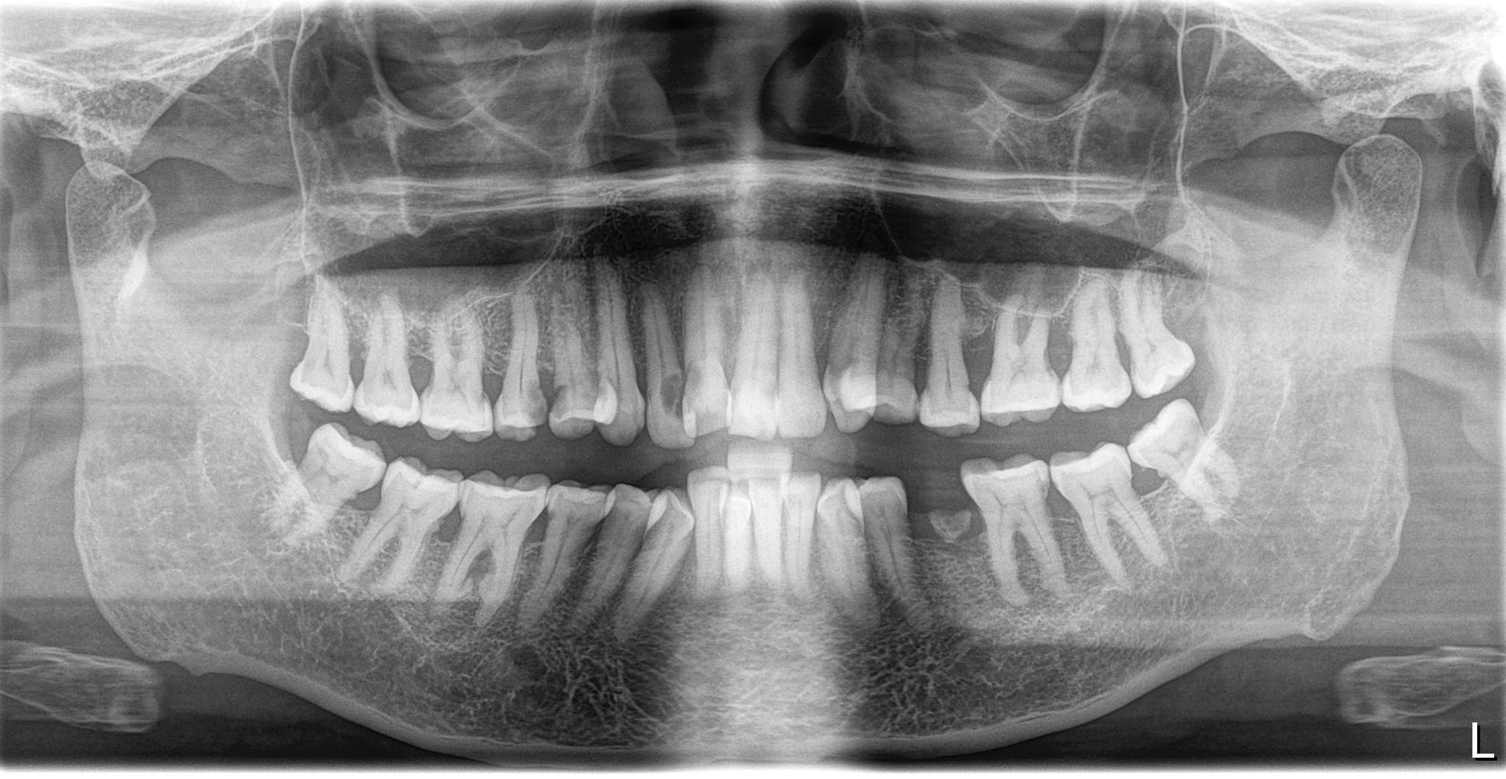Dental Caries: (651, 369, 718, 418), (500, 383, 546, 420), (552, 388, 598, 420)
Periapical Abnormality: (455, 532, 517, 602)
Retained Root: (919, 485, 983, 618)
